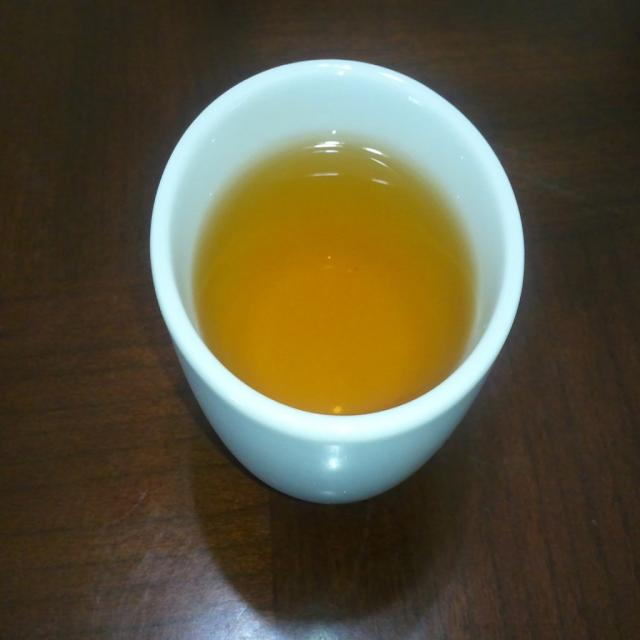Tea: (192, 134, 479, 413)
